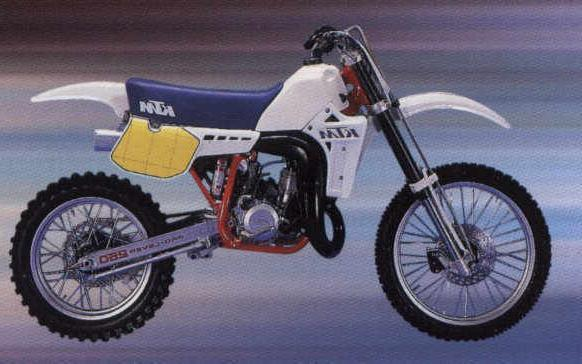motorcycle: (1, 18, 556, 348)
